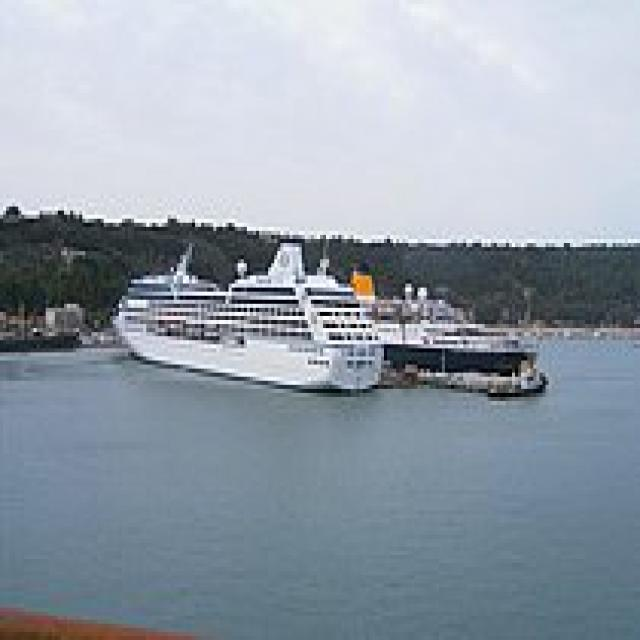Cruise: (104, 231, 384, 393)
